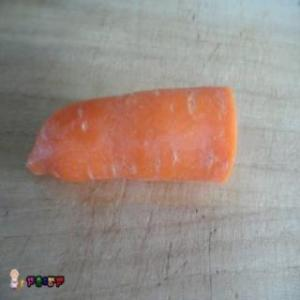carrot: (21, 84, 236, 188)
